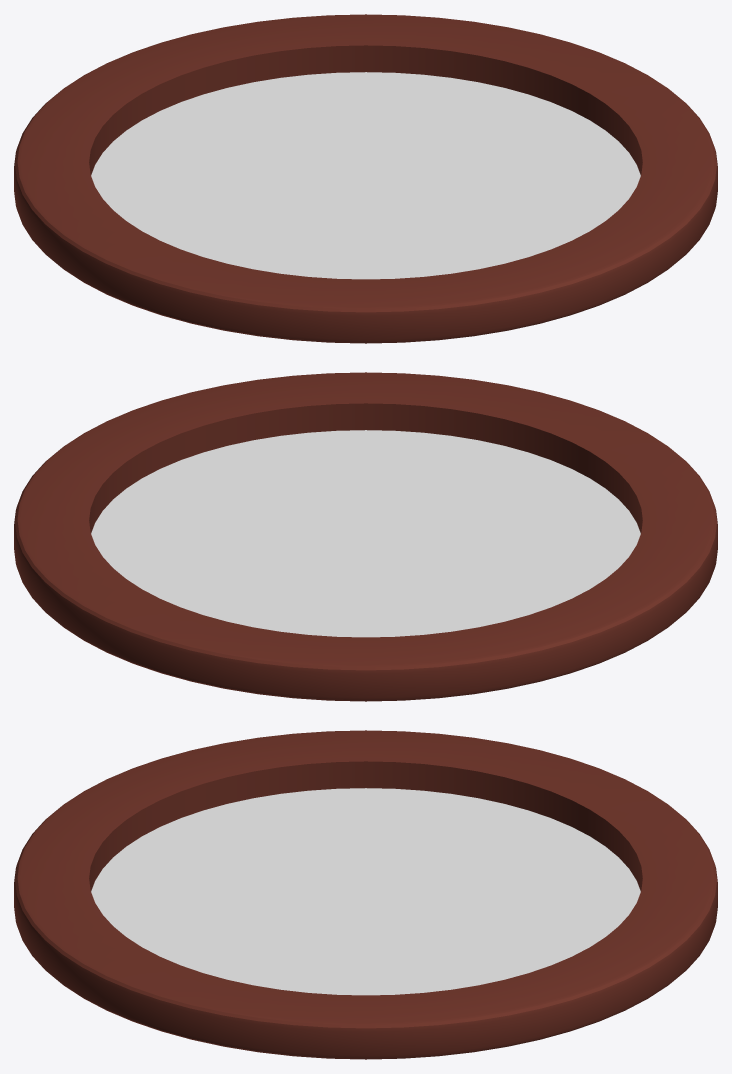
Rendered from Ceiling_Downlight.fbx.
3 views of the same model, one above another, from view 1: azimuth 30°, elevation 25°; view 2: azimuth 150°, elevation 25°; view 3: azimuth 270°, elevation 25° (orthographic).
Visible parts, largest first — view 1: Downlight; view 2: Downlight; view 3: Downlight.
Part boxes in pixels (x1,y1,x2,y2): Downlight: (14,14,717,343); Downlight: (14,372,717,701); Downlight: (14,730,717,1059).
Size of the model in its own units: 38.18 by 2.16 by 38.18.
